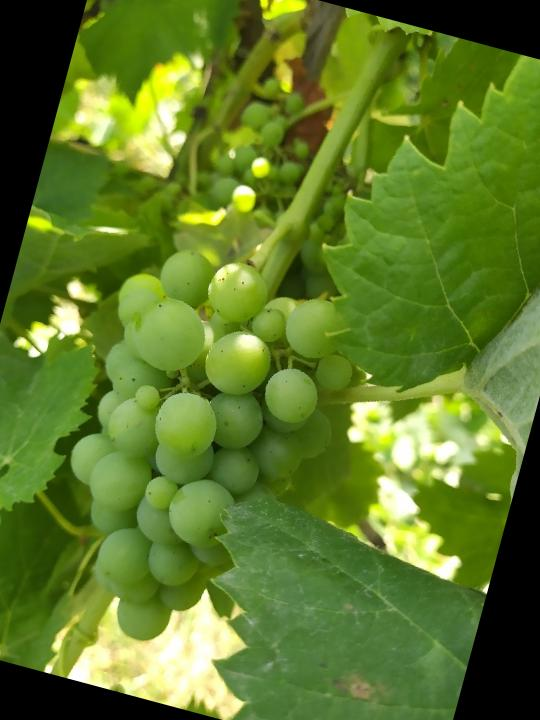grape: (25, 228, 372, 678)
